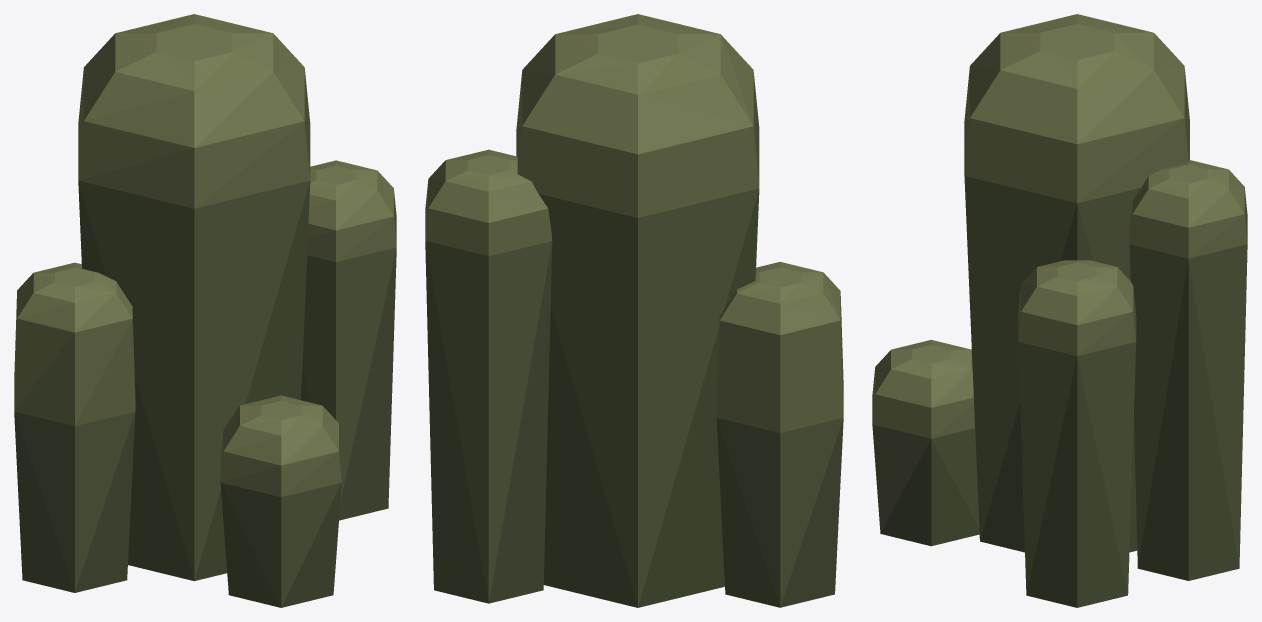
Rendered from DressCactusBarrel.glb.
3 views of the same model, side by side, from view 1: azimuth 30°, elevation 25°; view 2: azimuth 150°, elevation 25°; view 3: azimuth 270°, elevation 25° (orthographic). The views are drawn at different scales.
Visible parts, largest first — view 1: DressCactusBarrel; view 2: DressCactusBarrel; view 3: DressCactusBarrel.
Part boxes in pixels (x1,y1,x2,y2): DressCactusBarrel: (14,14,396,607); DressCactusBarrel: (425,14,843,607); DressCactusBarrel: (872,14,1247,607).
Size of the model in its own units: 0.5846 by 0.7 by 0.5002.
